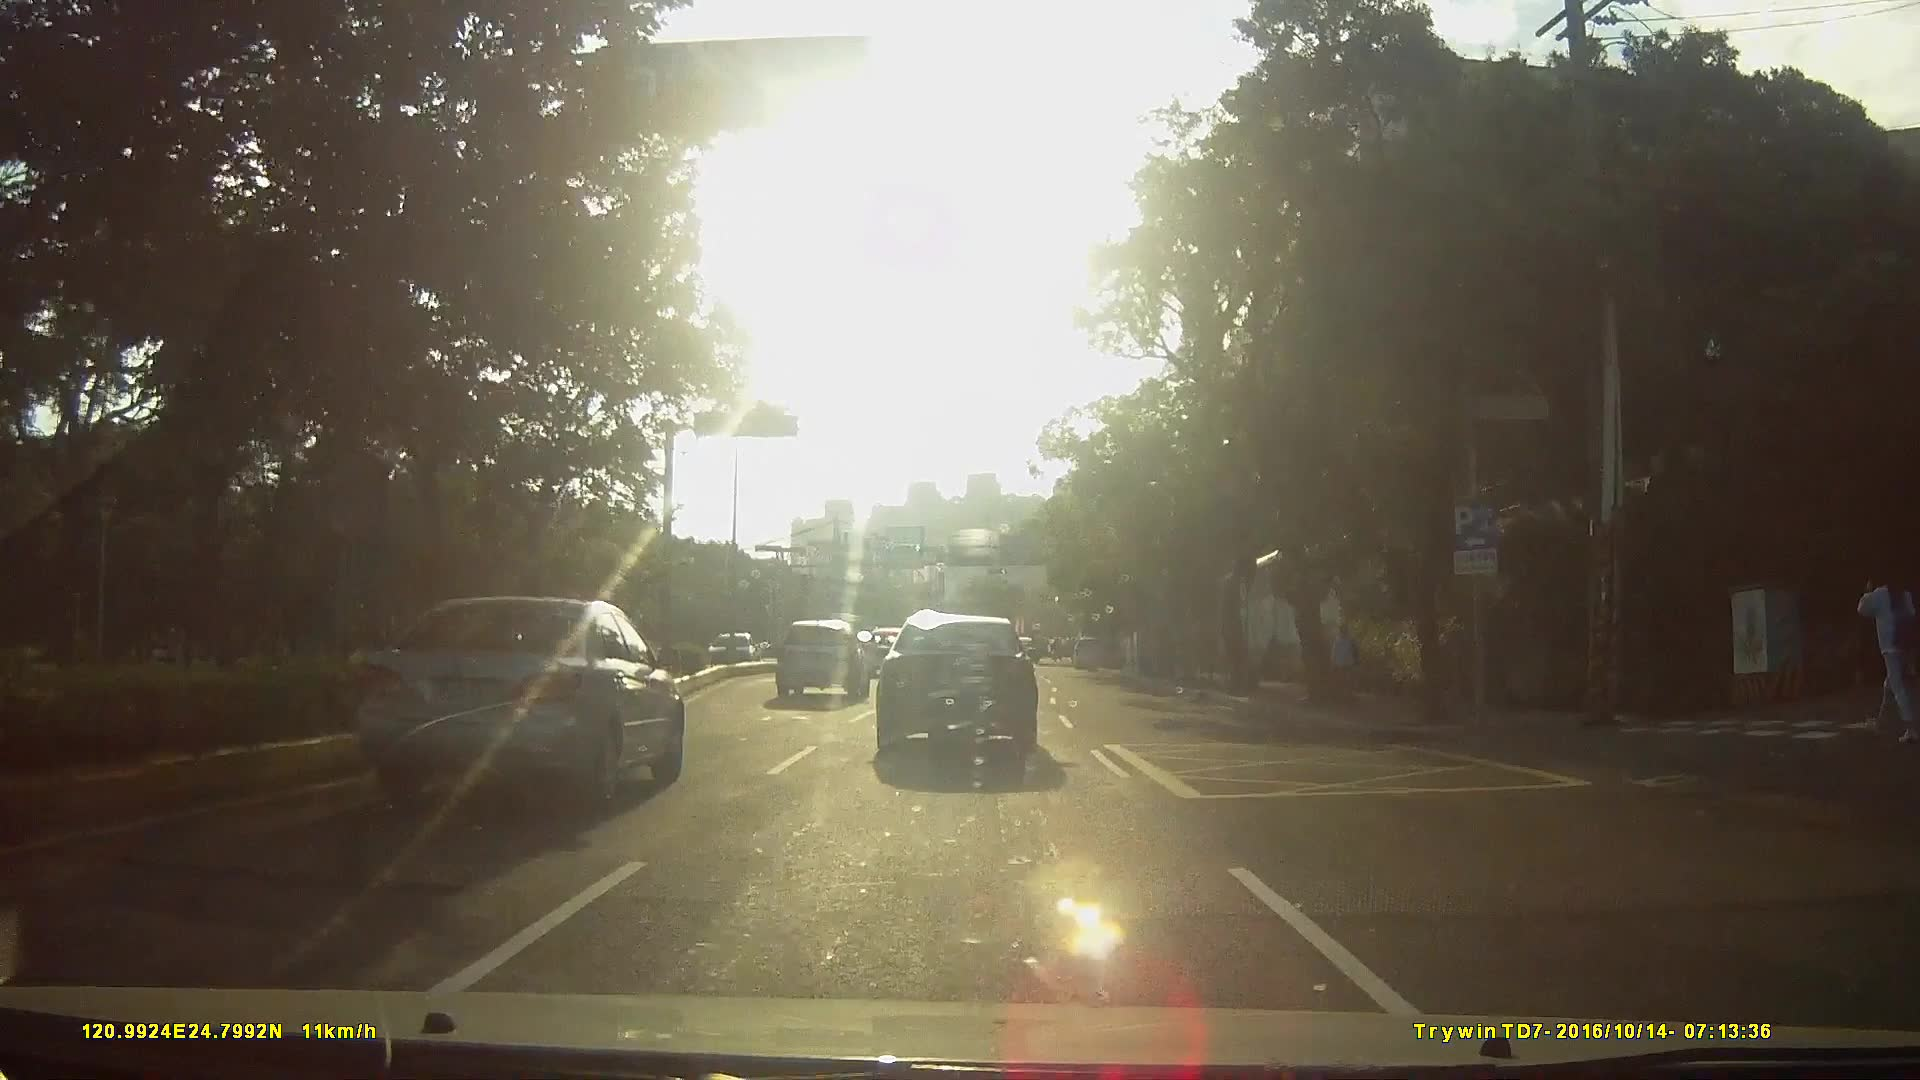pedestrian: (1856, 565, 1912, 742)
vehicle: (354, 595, 684, 809), (868, 620, 1053, 772), (769, 621, 868, 706), (690, 632, 742, 672), (1066, 638, 1103, 673)
